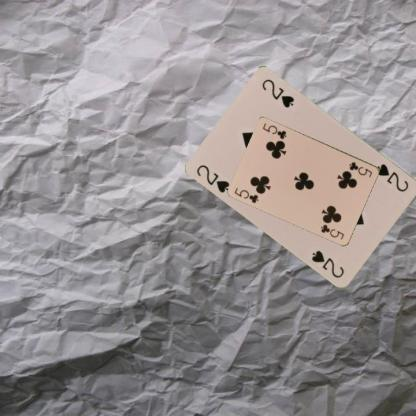2s: (374, 160, 410, 193), (194, 162, 231, 194)
5c: (346, 159, 374, 178), (232, 185, 260, 204)
